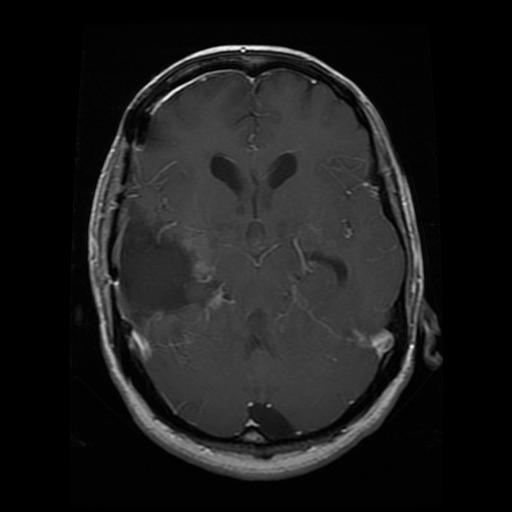Gliomia_tumour: (122, 202, 203, 312)
